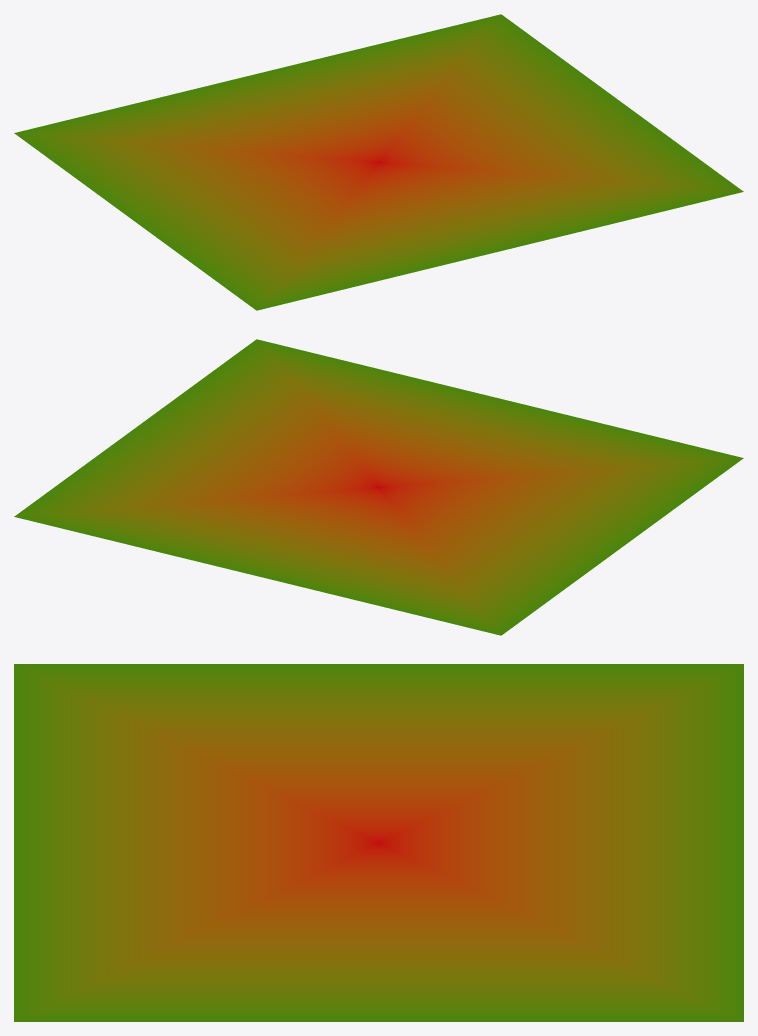
File: Xanadu_LOD3_Var7_siroZ.fbx
3 views of the same model, one above another, from view 1: azimuth 30°, elevation 25°; view 2: azimuth 150°, elevation 25°; view 3: azimuth 270°, elevation 25° (orthographic). The views are drawn at different scales.
Parts seen in each view (by area): view 1: _c872_Var7_LOD3; view 2: _c872_Var7_LOD3; view 3: _c872_Var7_LOD3.
Part boxes in pixels (x1,y1,x2,y2): _c872_Var7_LOD3: [14, 14, 743, 310]; _c872_Var7_LOD3: [14, 339, 743, 635]; _c872_Var7_LOD3: [14, 664, 743, 1021].
Size of the model in its own units: 41.34 by 6.68e-06 by 35.65.
